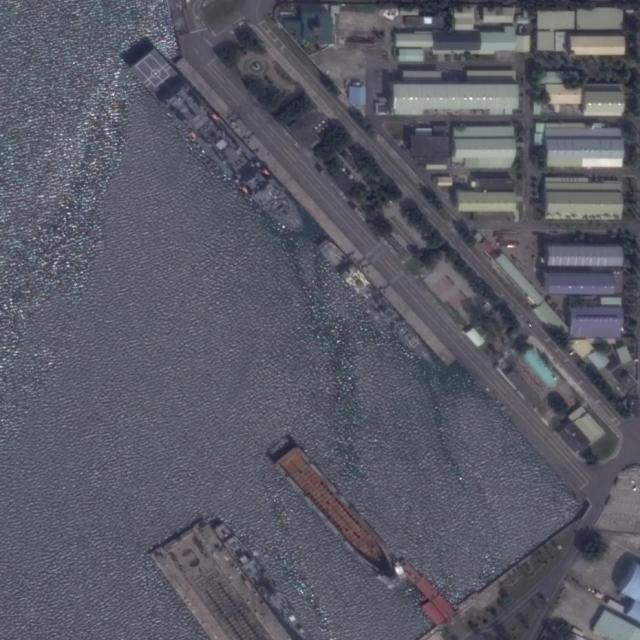Cargo: (274, 442, 409, 588)
Other Warship: (129, 43, 312, 244), (314, 235, 436, 370), (211, 516, 308, 640)
